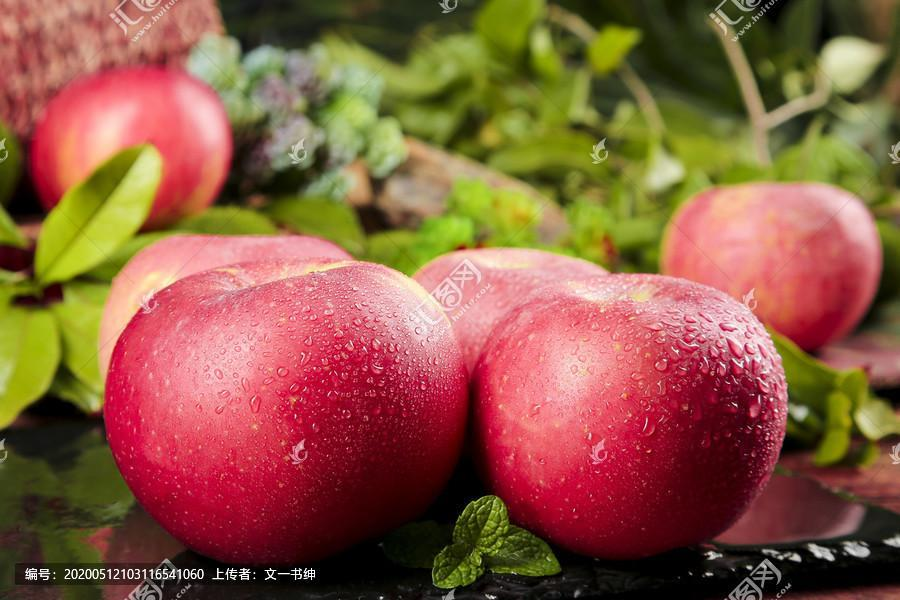apple: (102, 251, 463, 566), (474, 273, 791, 558), (655, 181, 879, 343), (30, 62, 232, 230)
